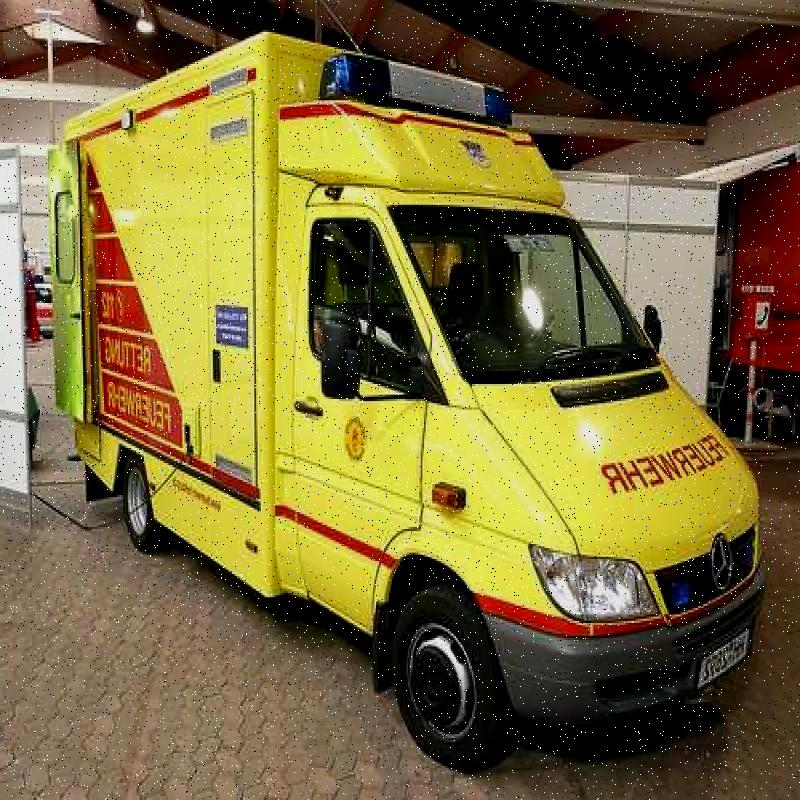AmbulanceSiren: (286, 41, 532, 130)
